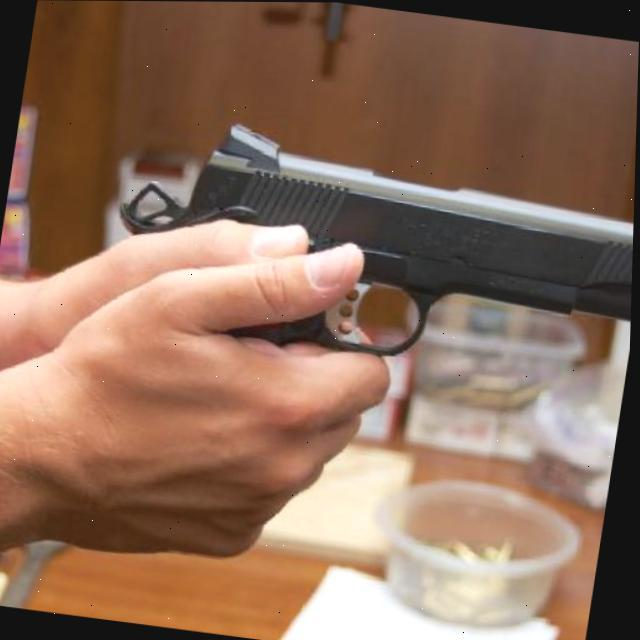gun: (90, 108, 638, 404)
